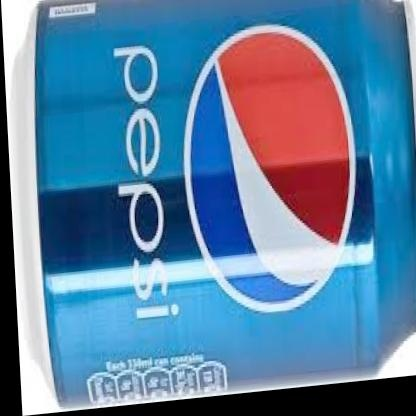trash: (35, 0, 415, 405)
